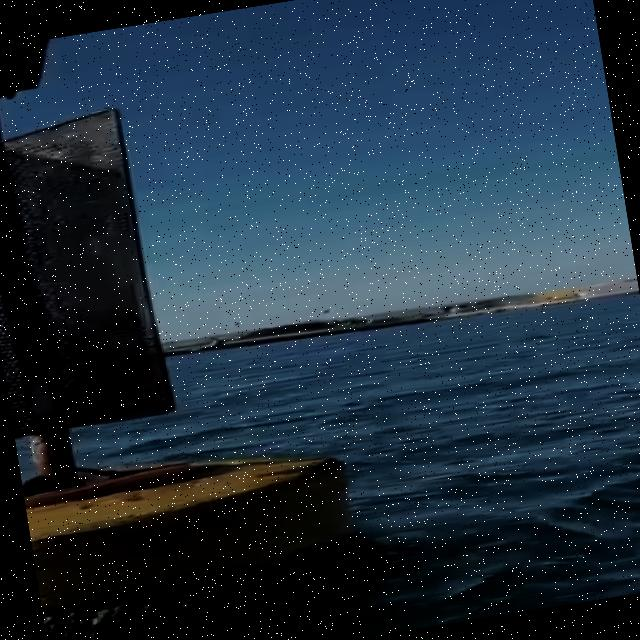marque: (1, 1, 400, 640)
